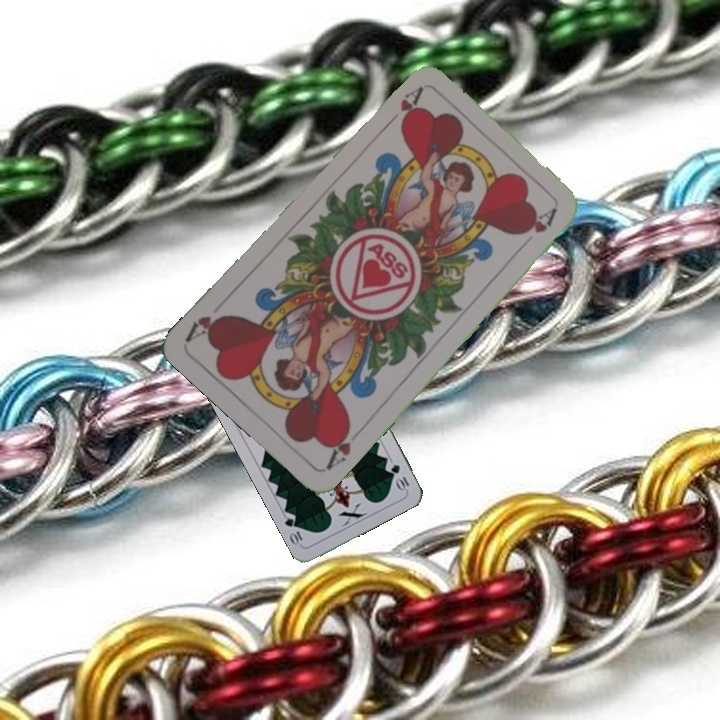G10: (387, 460, 412, 493)
HA: (380, 84, 425, 132), (321, 419, 354, 473)
